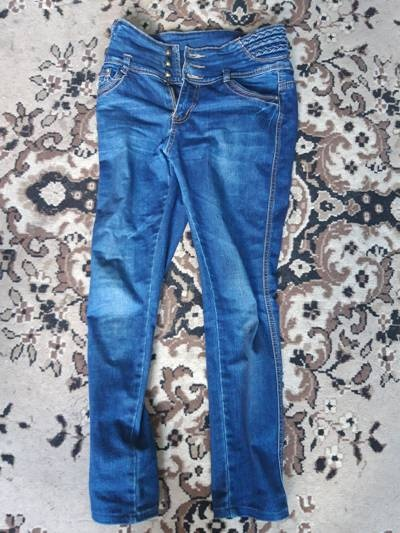Pants: (49, 17, 321, 507)
